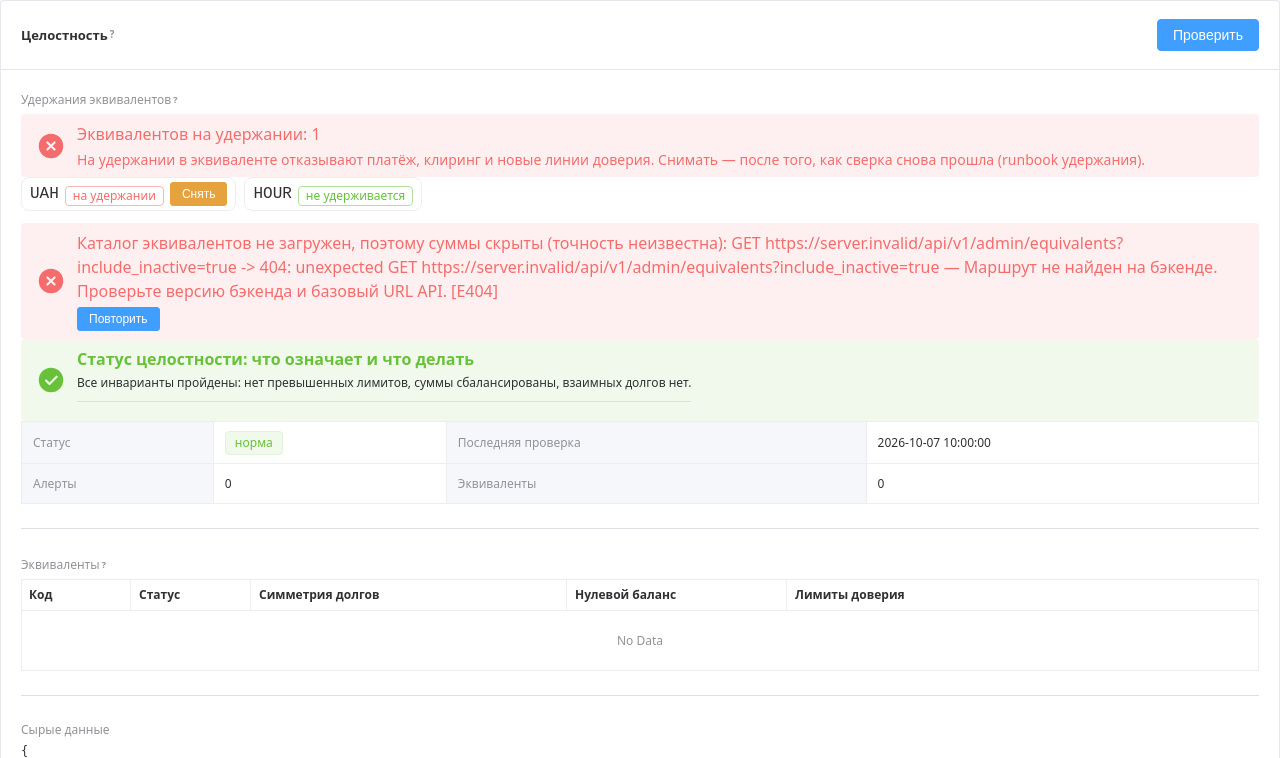
Integrity screen: equivalent holds (032 F-4) › shows the refusal {"reason":"no_integrity_hold"} as text, not as a code
Click the button "Снять".
click(199, 194)  # box [170,182,227,206]
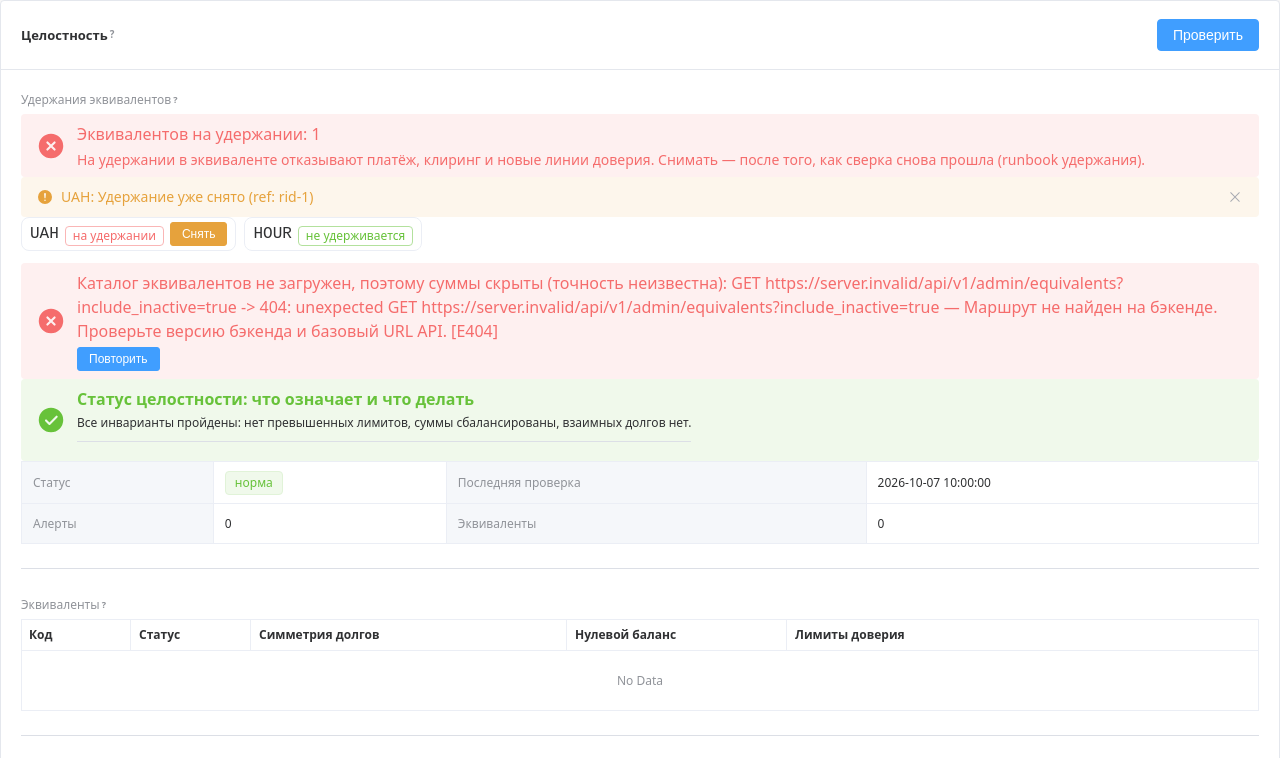
Check: the element with test id "integrity-hold-refusal" is shown, box [21,177,1259,217]
Check: the element with test id "integrity-hold-refusal" shows "Удержание уже снято", box [61,187,313,206]
